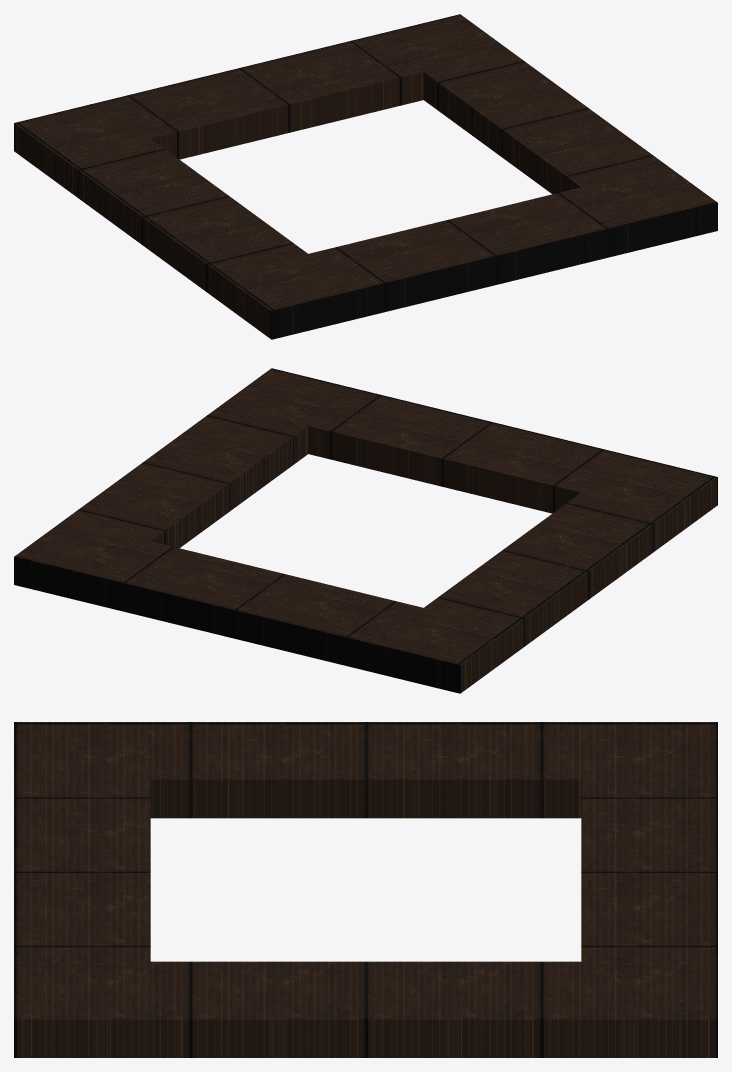
The model's file is ground.gltf.
The picture shows the model from 3 angles, top to bottom: view 1: azimuth 30°, elevation 25°; view 2: azimuth 150°, elevation 25°; view 3: azimuth 270°, elevation 25°; orthographic projection. The views are drawn at different scales.
Visible parts, largest first — view 1: mesh_floor; view 2: mesh_floor; view 3: mesh_floor.
Part boxes in pixels (bbox=[...]): mesh_floor: bbox=[14, 14, 717, 339]; mesh_floor: bbox=[14, 368, 717, 693]; mesh_floor: bbox=[14, 722, 717, 1057].
Bounding box in the file's own units: 146 × 8.78 × 146.
1 material, 1 textured.
